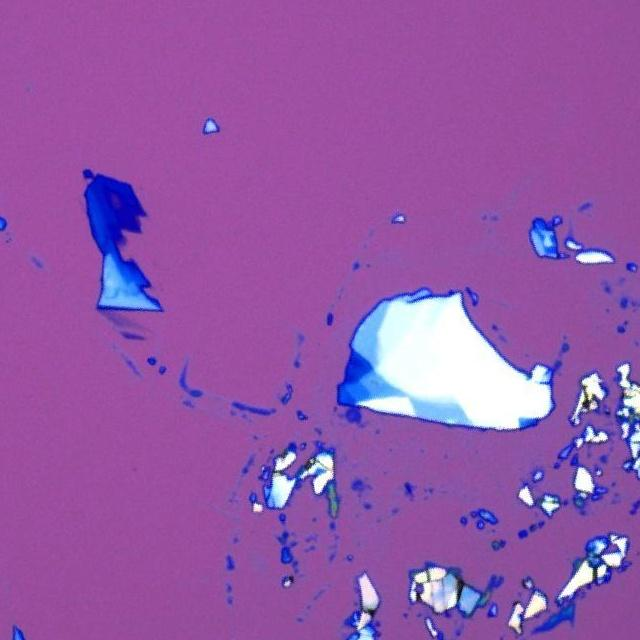monolayer-eWW4: (100, 310, 156, 330)
